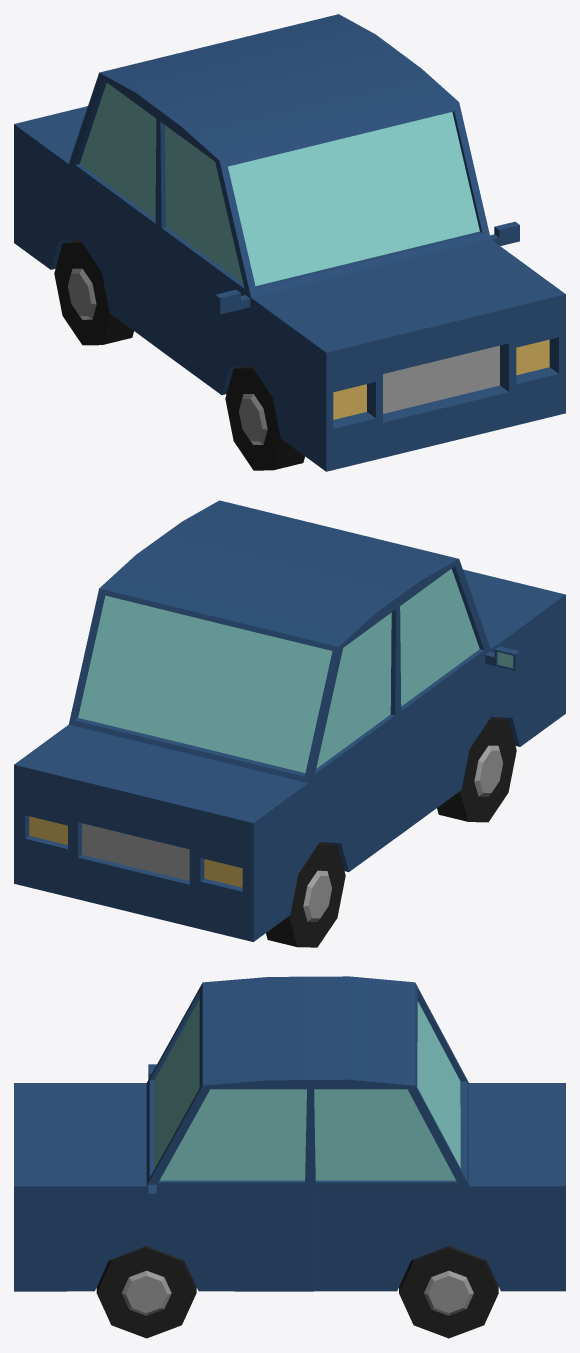
The model's file is Car_Blue.fbx.
3 renders of one model, top to bottom at view 1: azimuth 30°, elevation 25°; view 2: azimuth 150°, elevation 25°; view 3: azimuth 270°, elevation 25°, orthographic. The views are drawn at different scales.
Visible parts, largest first — view 1: pCube7; view 2: pCube7; view 3: pCube7.
Part boxes in pixels (<box>): pCube7: <box>14,14,565,471</box>; pCube7: <box>14,500,565,947</box>; pCube7: <box>14,976,565,1338</box>.
Bounding box in the file's own units: 165 × 154 × 297.
